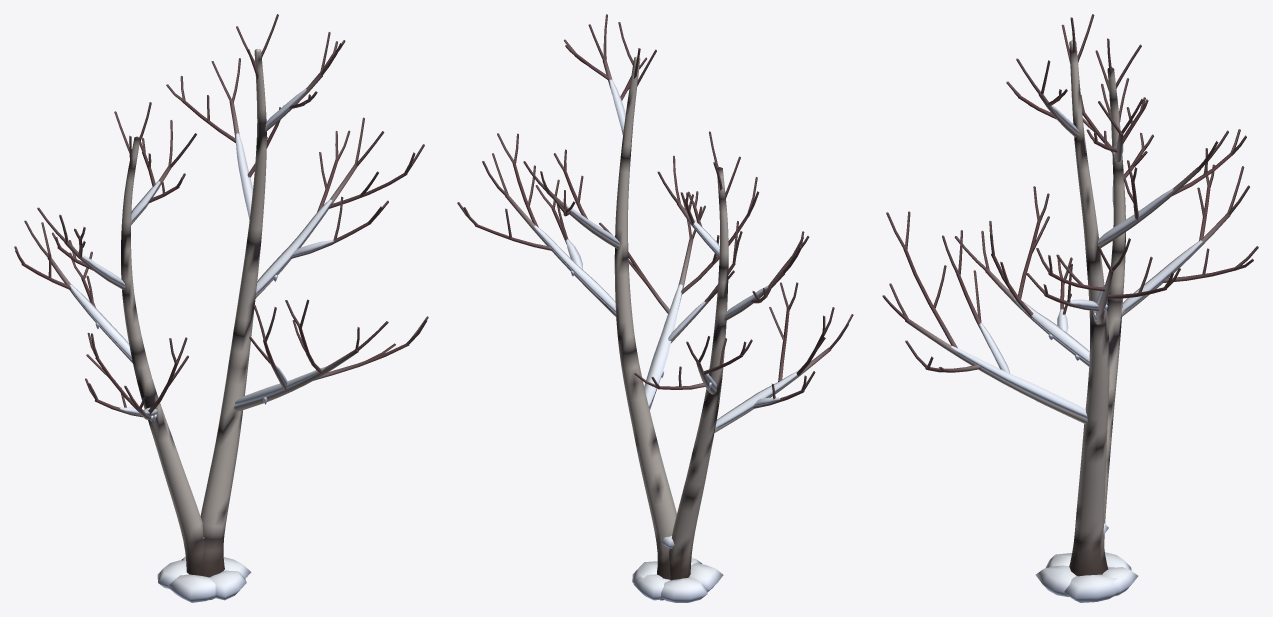
The model's file is tree-birch-v1.glb.
3 views of the same model, side by side, from view 1: azimuth 30°, elevation 25°; view 2: azimuth 150°, elevation 25°; view 3: azimuth 270°, elevation 25° (orthographic). The views are drawn at different scales.
Visible parts, largest first — view 1: bark, d_body; view 2: bark, d_body; view 3: bark, d_body.
Boxes of the visible parts, <box> form: bark: <box>14,14,428,599</box>; d_body: <box>69,89,333,602</box>; bark: <box>457,14,853,600</box>; d_body: <box>534,79,798,602</box>; bark: <box>882,14,1258,600</box>; d_body: <box>951,105,1202,602</box>.
Bounding box in the file's own units: 3.89 × 6 × 3.37.
